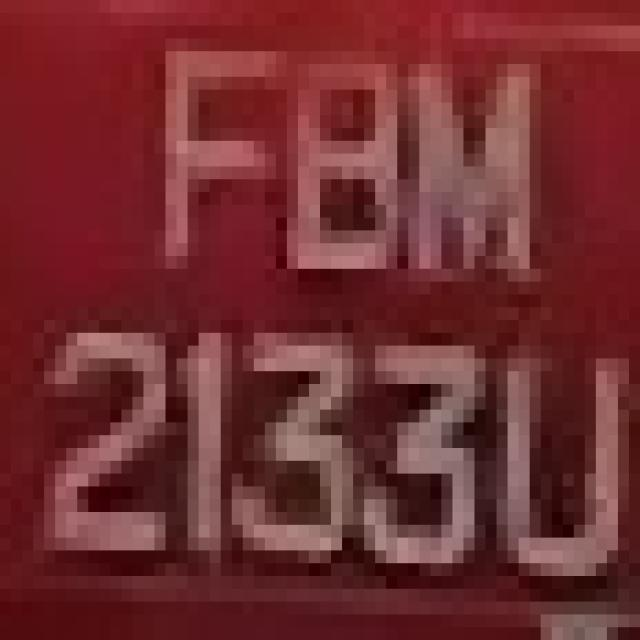1: (176, 269, 254, 589)
2: (22, 294, 166, 576)
3: (364, 294, 486, 614), (232, 294, 353, 564)
B: (254, 38, 397, 294)
F: (121, 0, 275, 294)
M: (375, 39, 563, 308)
U: (474, 320, 618, 640)
